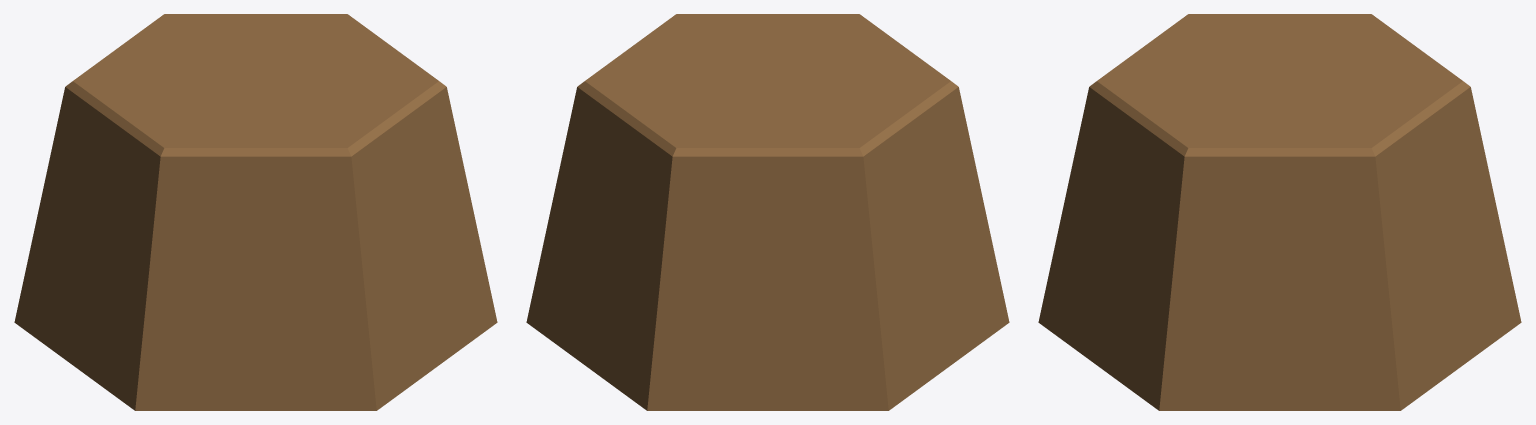
Rendered from RPG_Tiles_Hex_Mound_Small_01.FBX.
The picture shows the model from 3 angles, left to right: view 1: azimuth 30°, elevation 25°; view 2: azimuth 150°, elevation 25°; view 3: azimuth 270°, elevation 25°; orthographic projection.
Parts seen in each view (by area): view 1: RPG_Tiles_Hex_Mound_Small_01; view 2: RPG_Tiles_Hex_Mound_Small_01; view 3: RPG_Tiles_Hex_Mound_Small_01.
Part boxes in pixels (x1,y1,x2,y2): RPG_Tiles_Hex_Mound_Small_01: (14, 14, 497, 410); RPG_Tiles_Hex_Mound_Small_01: (526, 14, 1009, 410); RPG_Tiles_Hex_Mound_Small_01: (1038, 14, 1521, 410).
Bounding box in the file's own units: 1173 × 747 × 1355.
